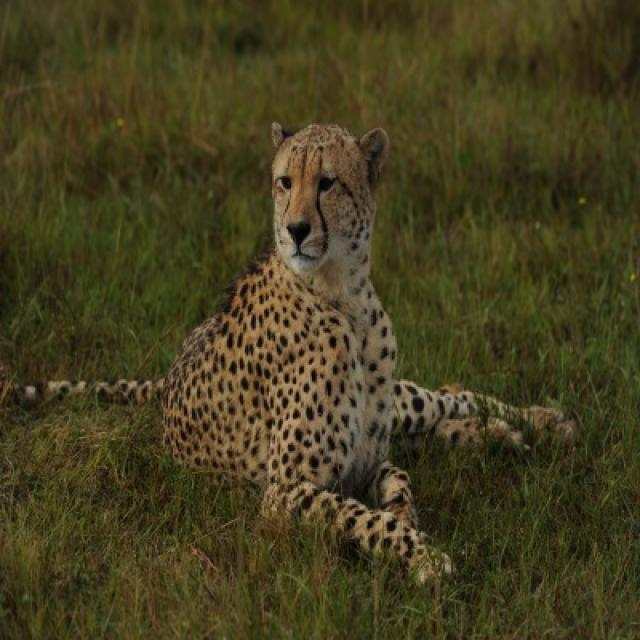Cheetah: (162, 123, 501, 560)
